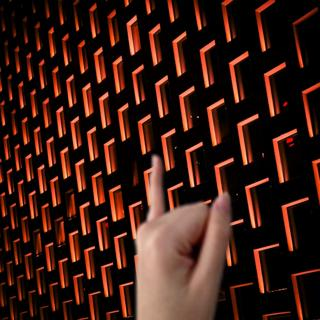Fine: (122, 153, 237, 311)
